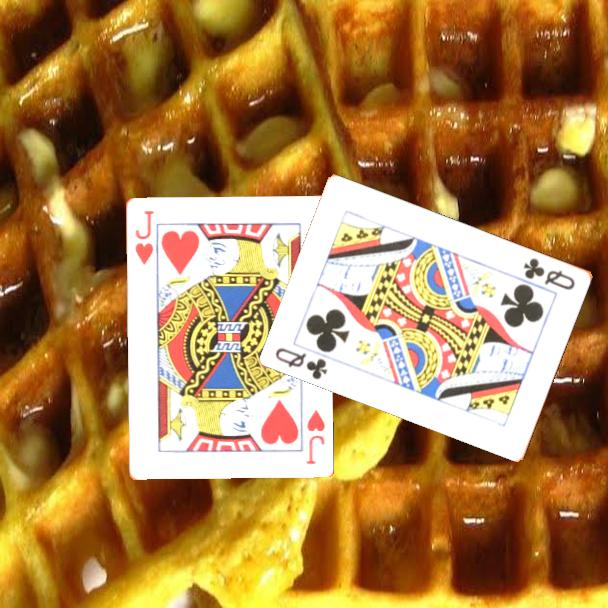c12: (520, 254, 578, 293), (272, 344, 331, 382)
h11: (131, 207, 156, 267), (302, 406, 327, 466)
